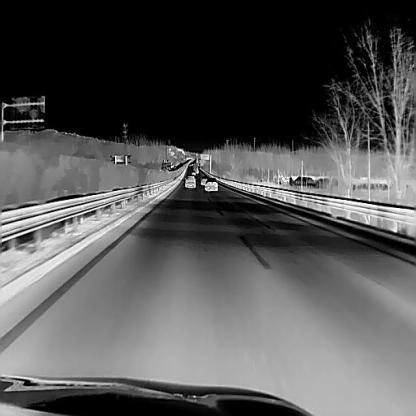car: (204, 176, 217, 190), (184, 175, 196, 187), (160, 160, 170, 171), (199, 174, 207, 184)
